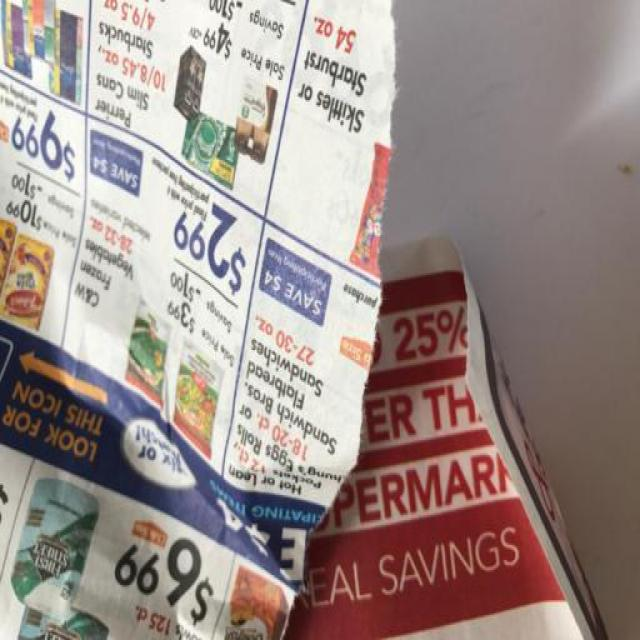paper: (1, 1, 426, 640), (241, 236, 636, 640)
